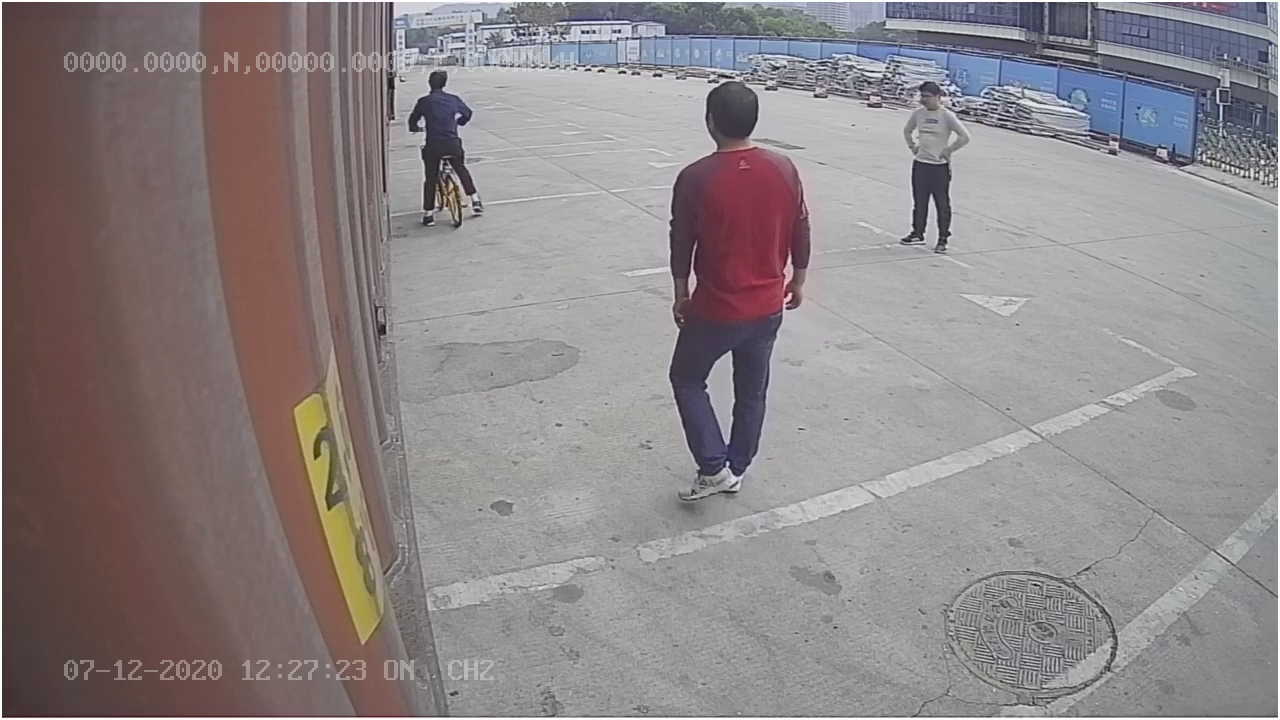person: (657, 75, 820, 515)
